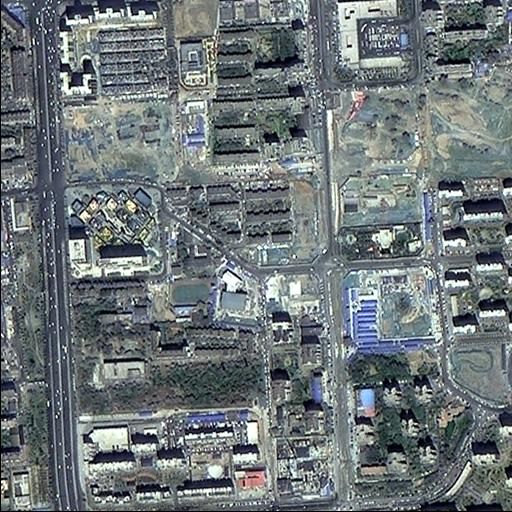school: (166, 225, 216, 313)
